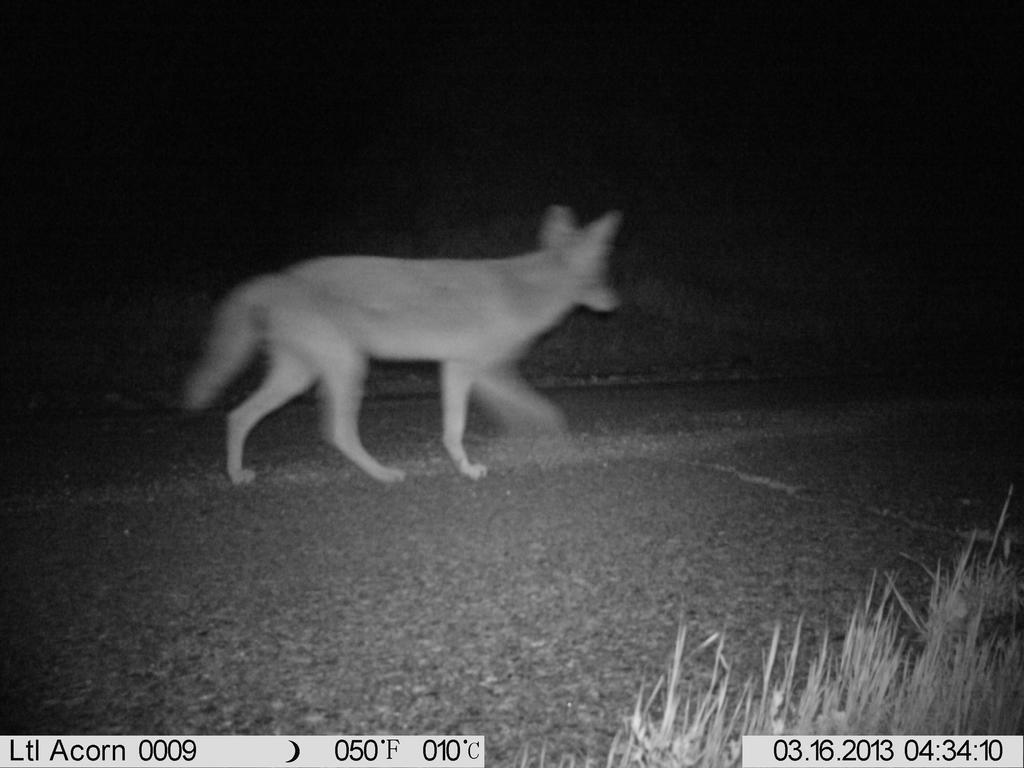coyote: (173, 194, 633, 488)
